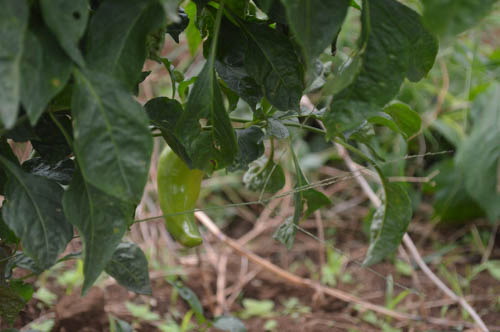ChiliPepper: (155, 146, 205, 247)
